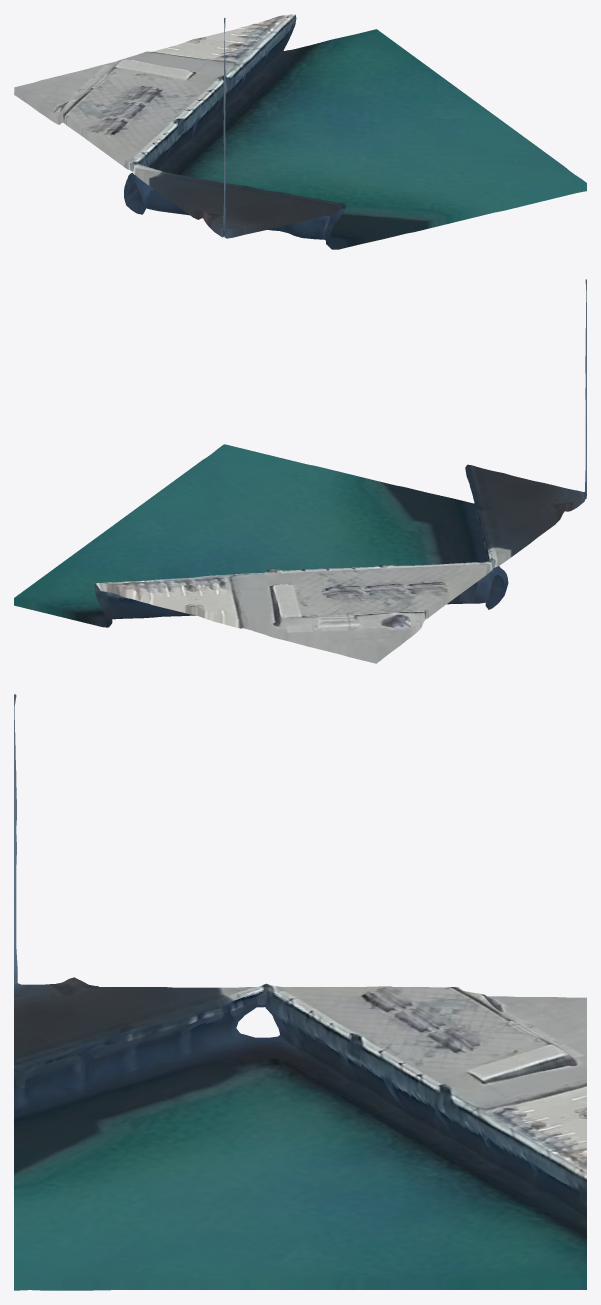
File: z20-167788-405217-h0-yup-uvflip-v3-world.glb
The picture shows the model from 3 angles, top to bottom: view 1: azimuth 30°, elevation 25°; view 2: azimuth 150°, elevation 25°; view 3: azimuth 270°, elevation 25°; orthographic projection. The views are drawn at different scales.
Size of the model in its own units: 30.2 by 20.88 by 30.32.
Materials: 1 (1 with a texture image).
